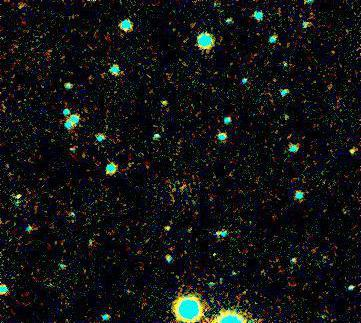star: (151, 216, 181, 246)
